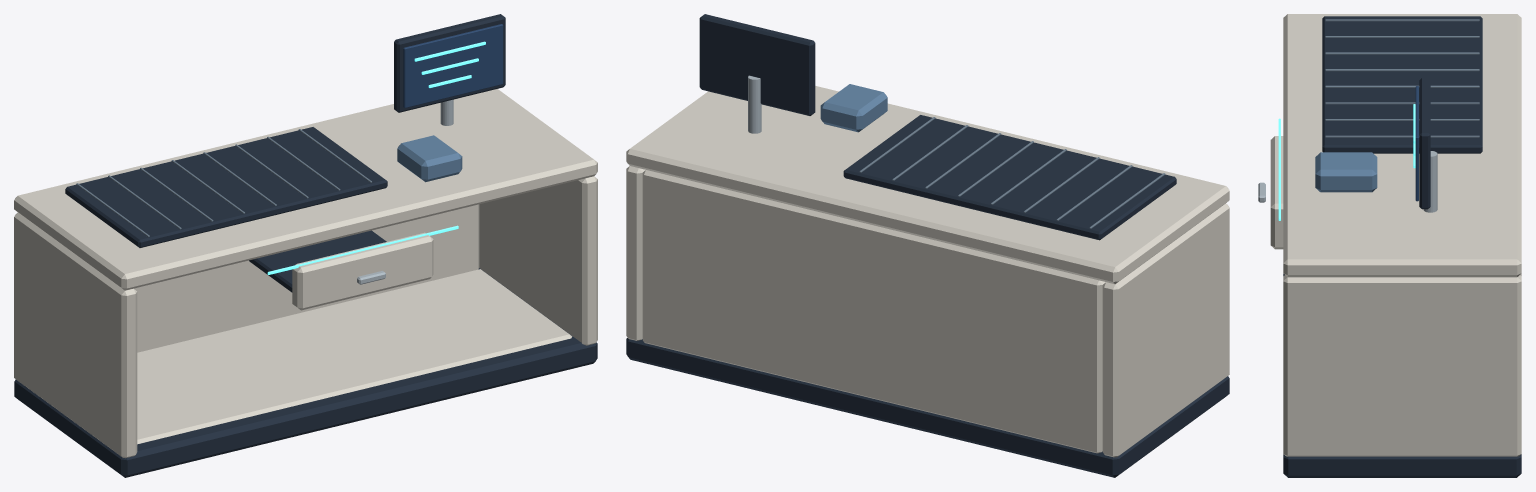
File: retail_01.glb
3 views of the same model, side by side, from view 1: azimuth 30°, elevation 25°; view 2: azimuth 150°, elevation 25°; view 3: azimuth 270°, elevation 25° (orthographic). The views are drawn at different scales.
Visible parts, largest first — view 1: Bottom, Top, Side (×2), Belt, Base, Back, DrawerFace, Screen, MonitorFrame, DrawerBase, Scanner, StatusLight; view 2: Back, Top, Side (×2), Belt, Base, MonitorFrame, Scanner, DisplayStand; view 3: Side, Top, Belt, Base, BeltSeam (×7), Scanner, MonitorFrame, DrawerFace, DisplayStand, Screen, StatusLight.
Boxes of the visible parts, box(x1,y1,x2,y2) form: Bottom: box(137, 269, 572, 444); Top: box(14, 89, 597, 290); Side (×2): box(14, 176, 597, 458); Belt: box(65, 127, 387, 247); Base: box(14, 268, 597, 477); Back: box(134, 204, 479, 352); DrawerFace: box(292, 232, 433, 310); Screen: box(403, 24, 503, 107); MonitorFrame: box(394, 14, 505, 112); DrawerBase: box(249, 230, 386, 292); Scanner: box(397, 135, 462, 182); StatusLight: box(267, 225, 458, 274); Back: box(642, 170, 1105, 453); Top: box(626, 86, 1229, 284); Side (×2): box(626, 166, 1229, 457); Belt: box(843, 115, 1176, 240); Base: box(626, 338, 1229, 477); MonitorFrame: box(699, 14, 815, 115); Scanner: box(820, 84, 887, 132); DisplayStand: box(748, 75, 761, 133); Side: box(1283, 275, 1521, 456); Top: box(1283, 14, 1521, 277); Belt: box(1322, 16, 1482, 153); Base: box(1283, 274, 1521, 477); BeltSeam (×7): box(1325, 19, 1479, 137); Scanner: box(1315, 152, 1377, 192); MonitorFrame: box(1419, 78, 1430, 209); DrawerFace: box(1270, 136, 1283, 249); DisplayStand: box(1423, 151, 1437, 212); Screen: box(1415, 86, 1418, 201); StatusLight: box(1278, 118, 1280, 220).
Size of the model in its own units: 2.1 by 1.3 by 0.939.
